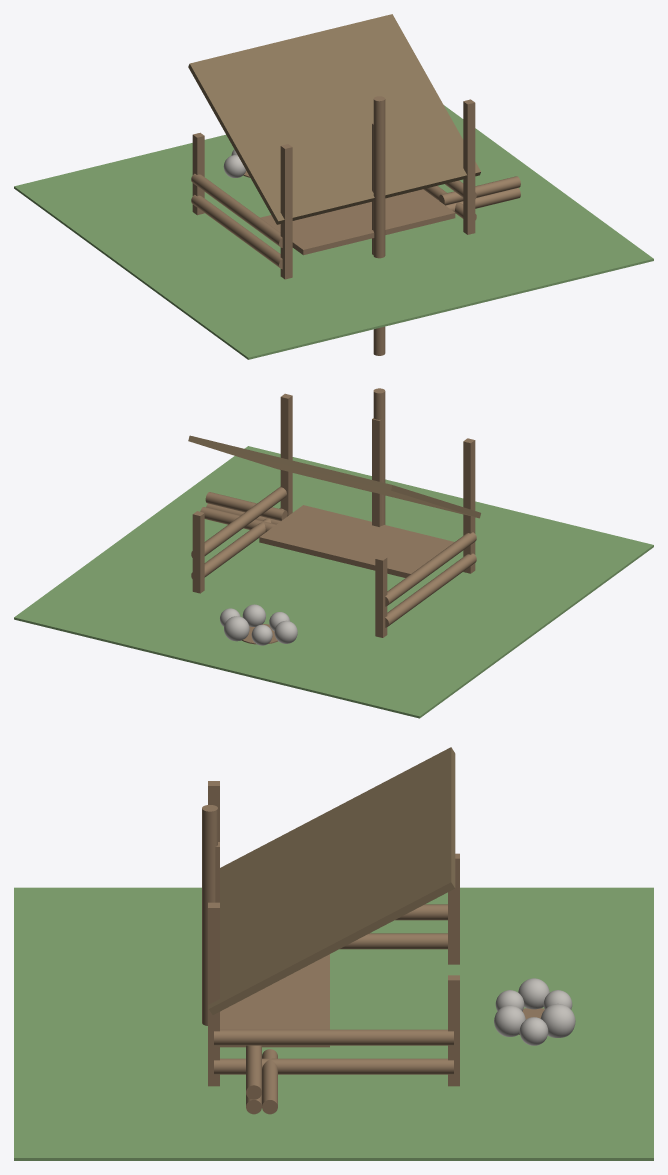
The model's file is ranger_lean_to.glb.
The picture shows the model from 3 angles, top to bottom: view 1: azimuth 30°, elevation 25°; view 2: azimuth 150°, elevation 25°; view 3: azimuth 270°, elevation 25°; orthographic projection. The views are drawn at different scales.
Visible parts, largest first — view 1: ground, roof, platform, post_bl_r, back_log_1, post_bl_l, side_l_2, side_l_1, back_log_3, wood_2, post_fl_l, wood_1 (+1 smaller); view 2: ground, platform, roof, post_bl_l, side_l_1, side_l_2, post_bl_r, side_r_2, post_fl_r, post_fl_l, side_r_1, post_bl_c (+4 smaller); view 3: ground, roof, platform, side_r_2, side_r_1, post_bl_r, side_l_1, back_log_3, post_fl_r, post_fl_l, back_log_2, wood_3 (+7 smaller).
Boxes of the visible parts, x1,y1,x2,y2 form: ground: [14, 105, 653, 359]; roof: [188, 14, 480, 224]; platform: [260, 189, 455, 255]; post_bl_r: [463, 99, 475, 234]; back_log_1: [373, 142, 385, 355]; post_bl_l: [280, 144, 292, 279]; side_l_2: [191, 173, 282, 247]; side_l_1: [191, 195, 282, 269]; back_log_3: [373, 96, 385, 257]; wood_2: [439, 176, 520, 205]; post_fl_l: [192, 132, 204, 215]; wood_1: [446, 188, 520, 211]; ground: [14, 446, 653, 718]; platform: [259, 505, 454, 577]; roof: [188, 435, 480, 518]; post_bl_l: [463, 438, 475, 573]; side_l_1: [385, 553, 476, 627]; side_l_2: [385, 532, 476, 606]; post_bl_r: [280, 393, 292, 516]; side_r_2: [191, 486, 286, 557]; post_fl_r: [192, 511, 204, 593]; post_fl_l: [375, 555, 387, 637]; side_r_1: [191, 508, 283, 578]; post_bl_c: [372, 418, 381, 526]; ground: [14, 887, 653, 1160]; roof: [208, 747, 455, 1014]; platform: [220, 954, 329, 1047]; side_r_2: [214, 1029, 453, 1045]; side_r_1: [214, 1058, 453, 1074]; post_bl_r: [208, 902, 219, 1086]; side_l_1: [339, 933, 447, 949]; back_log_3: [202, 805, 217, 1025]; post_fl_r: [448, 975, 459, 1086]; post_fl_l: [448, 853, 459, 964]; back_log_2: [202, 838, 217, 1024]; wood_3: [262, 1049, 277, 1114].
Bounding box in the file's own units: 8 × 4.8 × 8.
